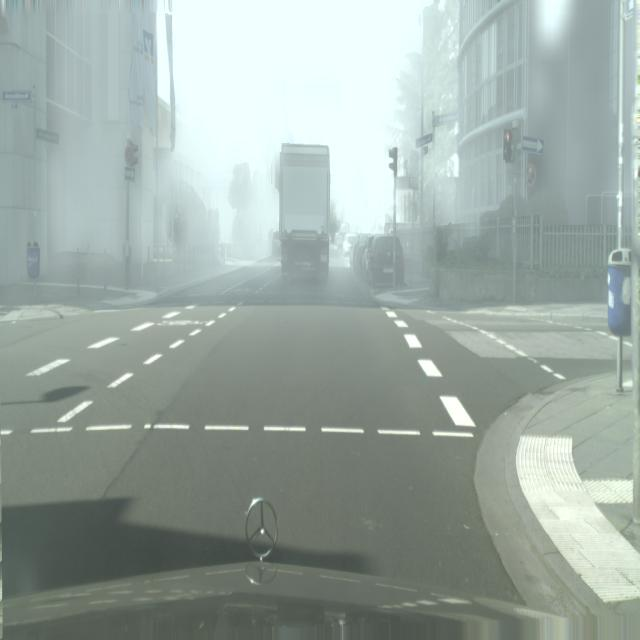rider: (280, 144, 331, 284)
truck: (367, 233, 404, 288), (352, 234, 371, 279), (343, 233, 357, 257)
